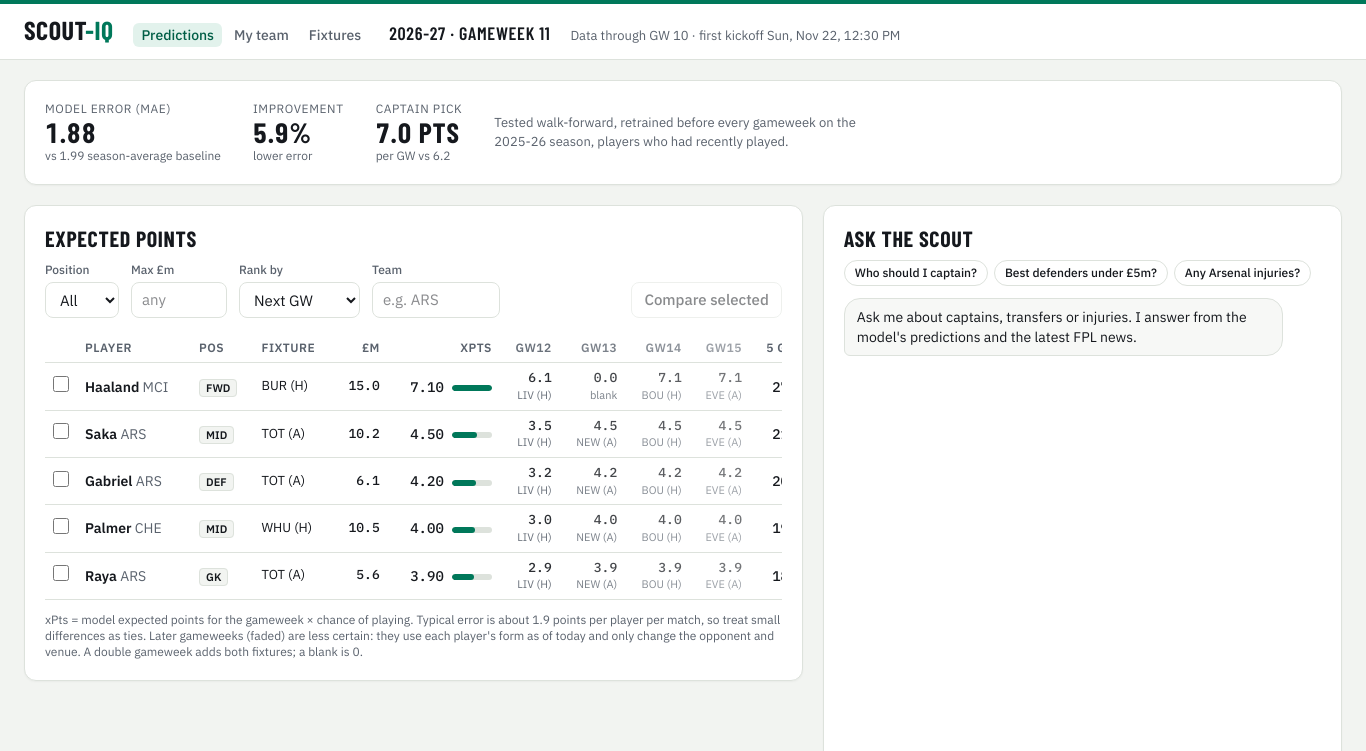
Test: compare › shows names the backend found ambiguous or couldn't find
Expected: the text "Haaland" is shown, x1=85 y1=378 x2=139 y2=396
Step 1. Click the checkbox named "Select Haaland to compare" → (61, 384), box x1=53 y1=376 x2=69 y2=392
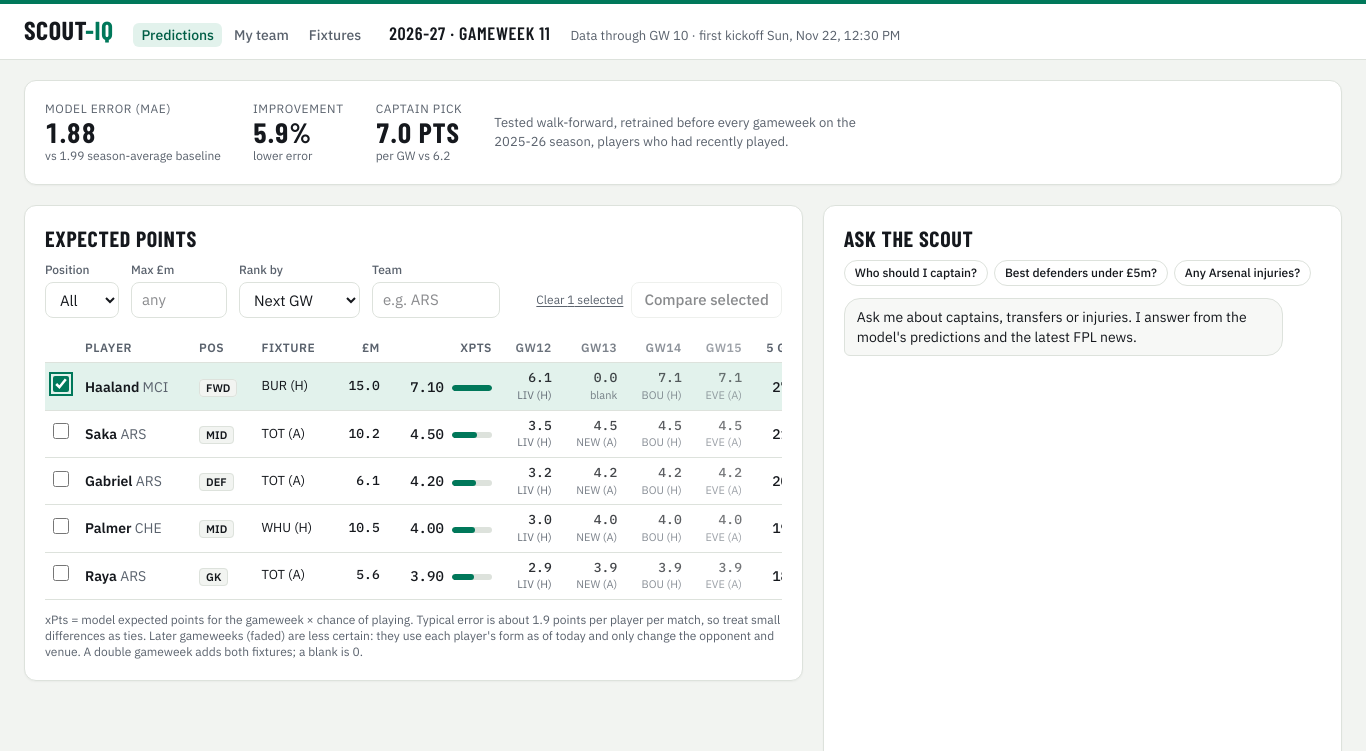
Step 2. Click the checkbox named "Select Gabriel to compare" → (61, 479), box x1=53 y1=471 x2=69 y2=487
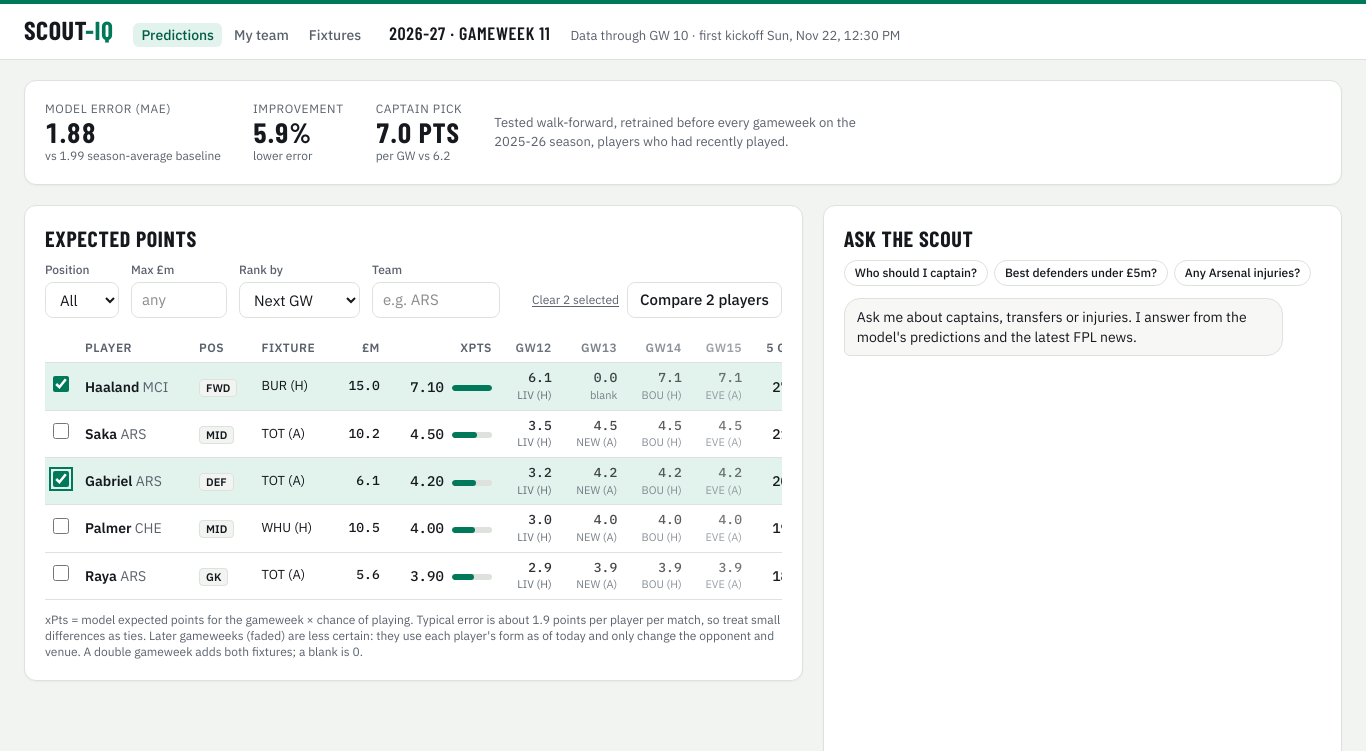
Step 3. Click the checkbox named "Select Palmer to compare" → (61, 526), box x1=53 y1=518 x2=69 y2=534
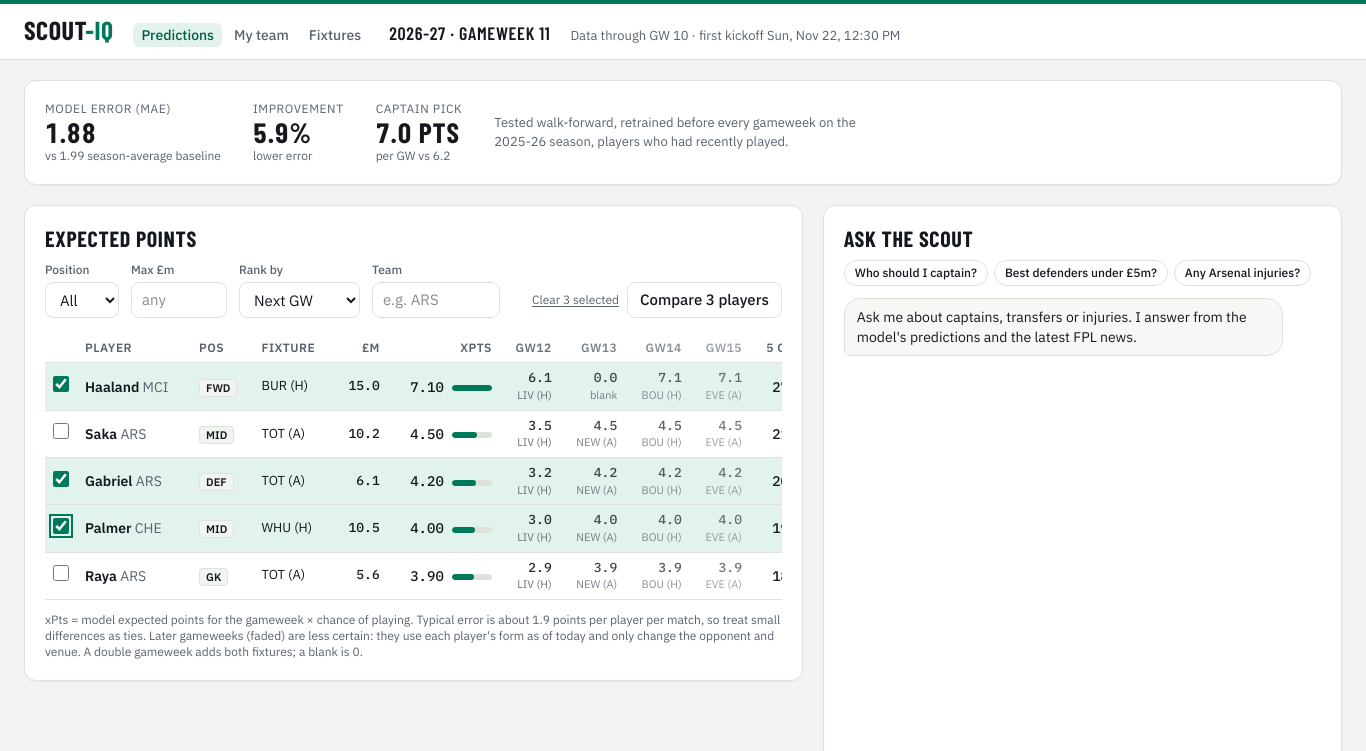
Step 4. Click the button "Compare 3 players" → (704, 300), box x1=627 y1=282 x2=782 y2=318
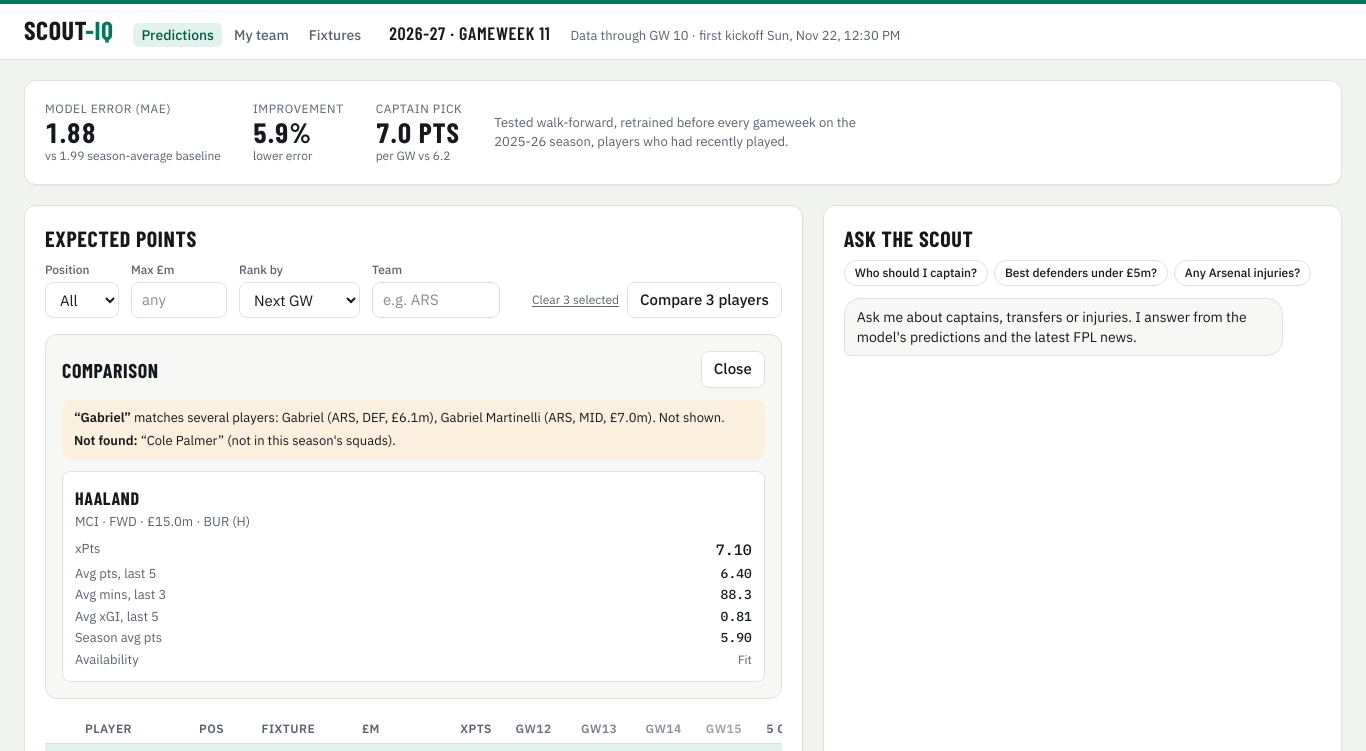
Now the message shows "“Gabriel” matches several players: Gabriel (ARS, DEF, £6.1m), Gabriel Martinelli (ARS, MID, £7.0m). Not shown.", box x1=62 y1=400 x2=765 y2=459
Now the message shows "Not found: “Cole Palmer” (not in this season's squads).", box x1=62 y1=400 x2=765 y2=459
